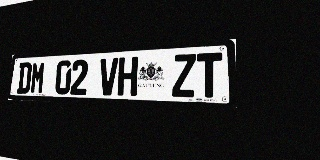0: (55, 60, 72, 95)
2: (70, 59, 88, 95)
D: (17, 62, 32, 94)
H: (117, 57, 138, 96)
M: (30, 61, 46, 94)
T: (196, 52, 222, 98)
V: (98, 58, 118, 96)
Z: (172, 54, 196, 97)
